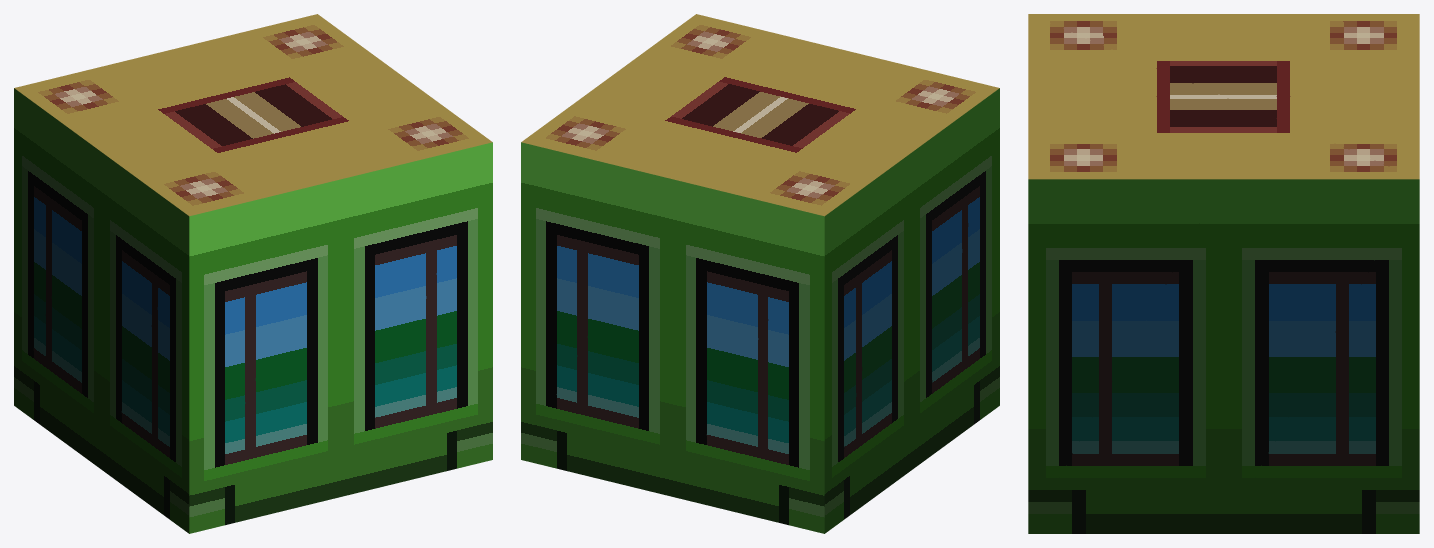
File: floor_3.obj
3 views of the same model, side by side, from view 1: azimuth 30°, elevation 25°; view 2: azimuth 150°, elevation 25°; view 3: azimuth 270°, elevation 25° (orthographic). The views are drawn at different scales.
Parts seen in each view (by area): view 1: floor_3_part0, floor_3_part1; view 2: floor_3_part0, floor_3_part1; view 3: floor_3_part0, floor_3_part1.
Part boxes in pixels (x1,y1,x2,y2): floor_3_part0: [14, 88, 492, 533]; floor_3_part1: [14, 14, 492, 216]; floor_3_part0: [521, 88, 999, 533]; floor_3_part1: [521, 14, 999, 216]; floor_3_part0: [1028, 179, 1419, 533]; floor_3_part1: [1028, 14, 1419, 179].
Bounding box in the file's own units: 256 × 256 × 256.
Materials: 2 (2 with a texture image).
